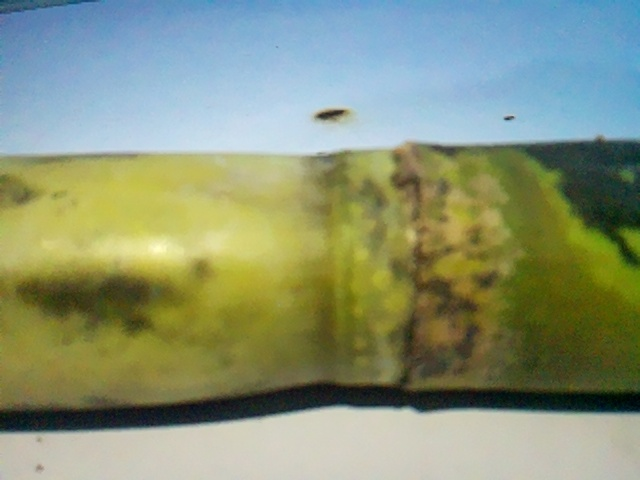Good Sugarcane: (0, 136, 639, 418)
Node: (304, 142, 454, 396)
